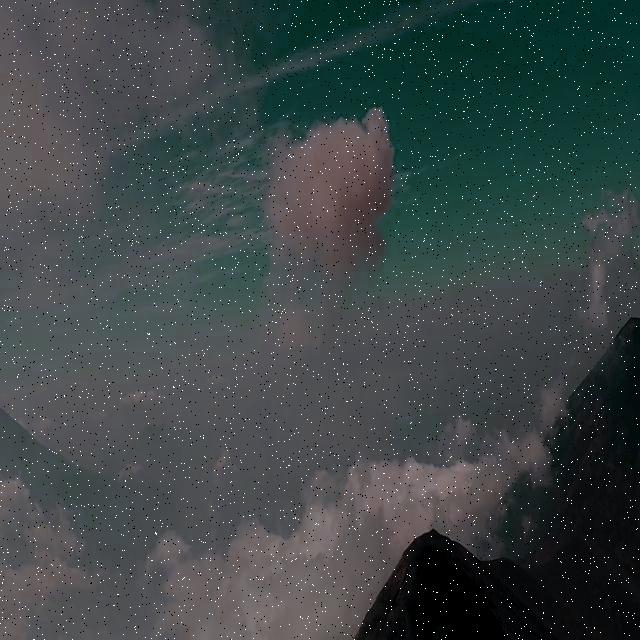Plume: (244, 98, 396, 314)
Summit: (346, 500, 517, 640)
